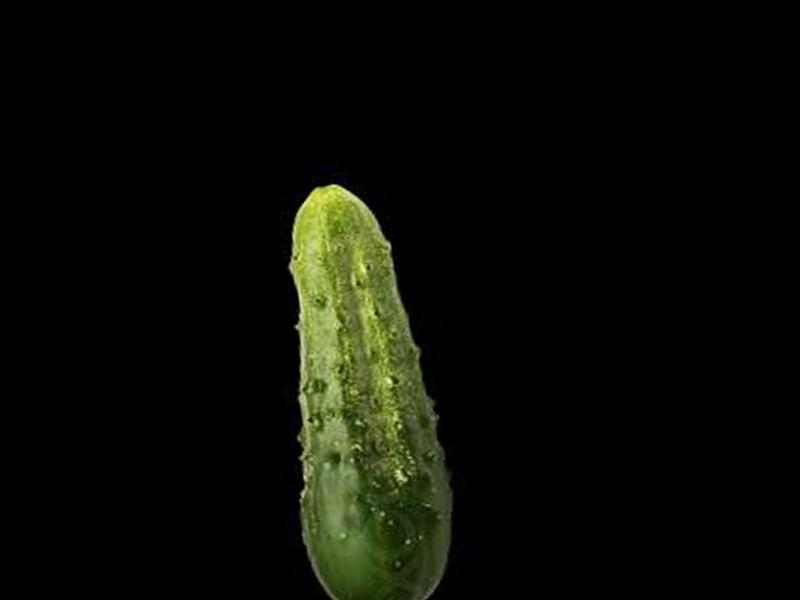Cucumber: (253, 174, 472, 600)
